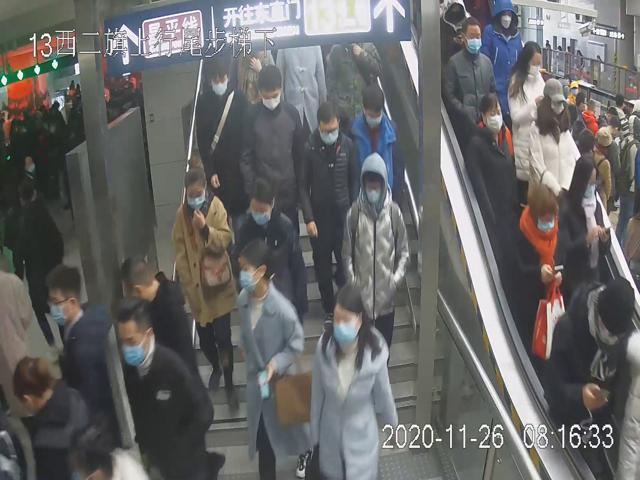person: (109, 295, 229, 475), (229, 243, 313, 480), (306, 280, 401, 480), (170, 155, 242, 417), (336, 146, 409, 377), (229, 171, 311, 348), (301, 95, 359, 315), (237, 67, 306, 247), (510, 182, 574, 354), (464, 91, 519, 288), (196, 53, 252, 236), (349, 78, 406, 223), (504, 37, 550, 184), (443, 17, 495, 139)
